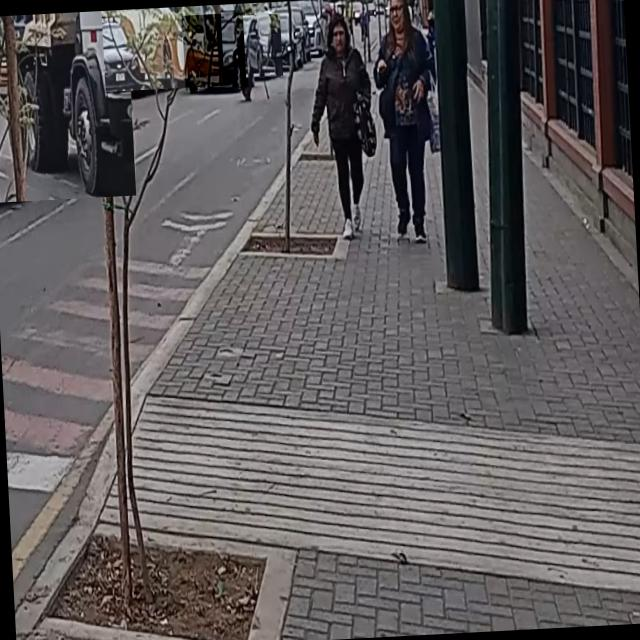bus: (102, 5, 225, 92)
car: (182, 13, 249, 90), (243, 13, 283, 78)
truck: (0, 10, 136, 203)
